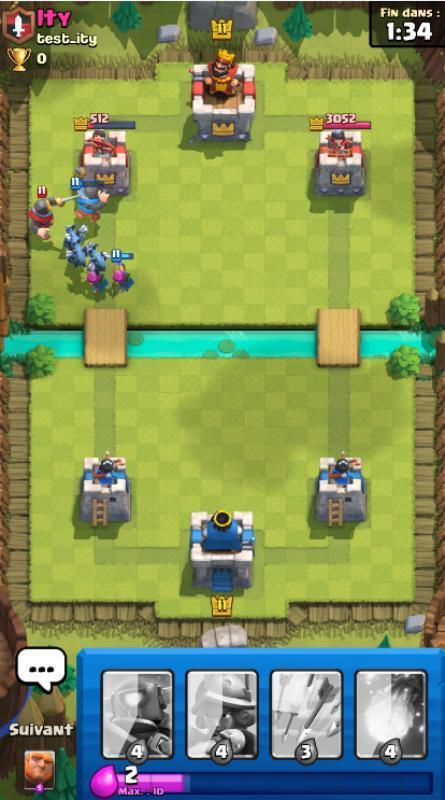enemy_knight: (24, 186, 64, 238)
player_archers: (108, 251, 137, 291), (80, 254, 109, 292)
player_knight: (65, 172, 112, 219)
player_minions: (59, 224, 91, 262), (84, 243, 109, 276)
